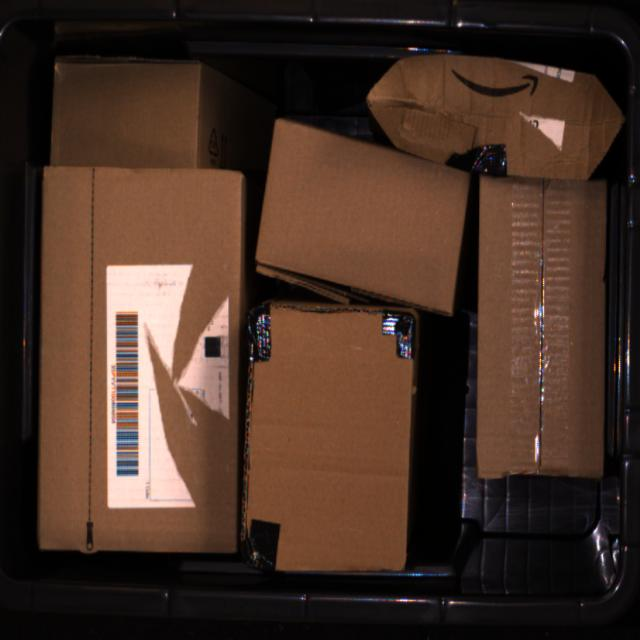Cardboard Box: (36, 161, 246, 557), (244, 294, 421, 575), (253, 113, 473, 316), (475, 170, 608, 480), (365, 48, 625, 179), (48, 51, 269, 168)
